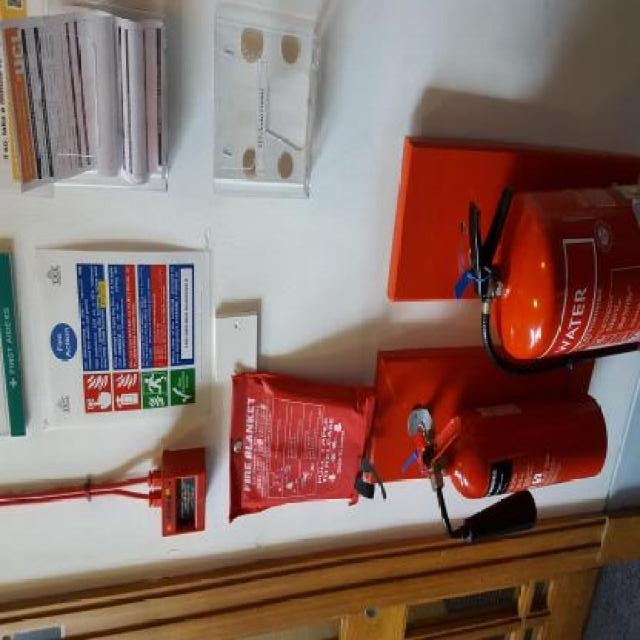fire extinguisher: (468, 183, 640, 374), (415, 393, 608, 544)
